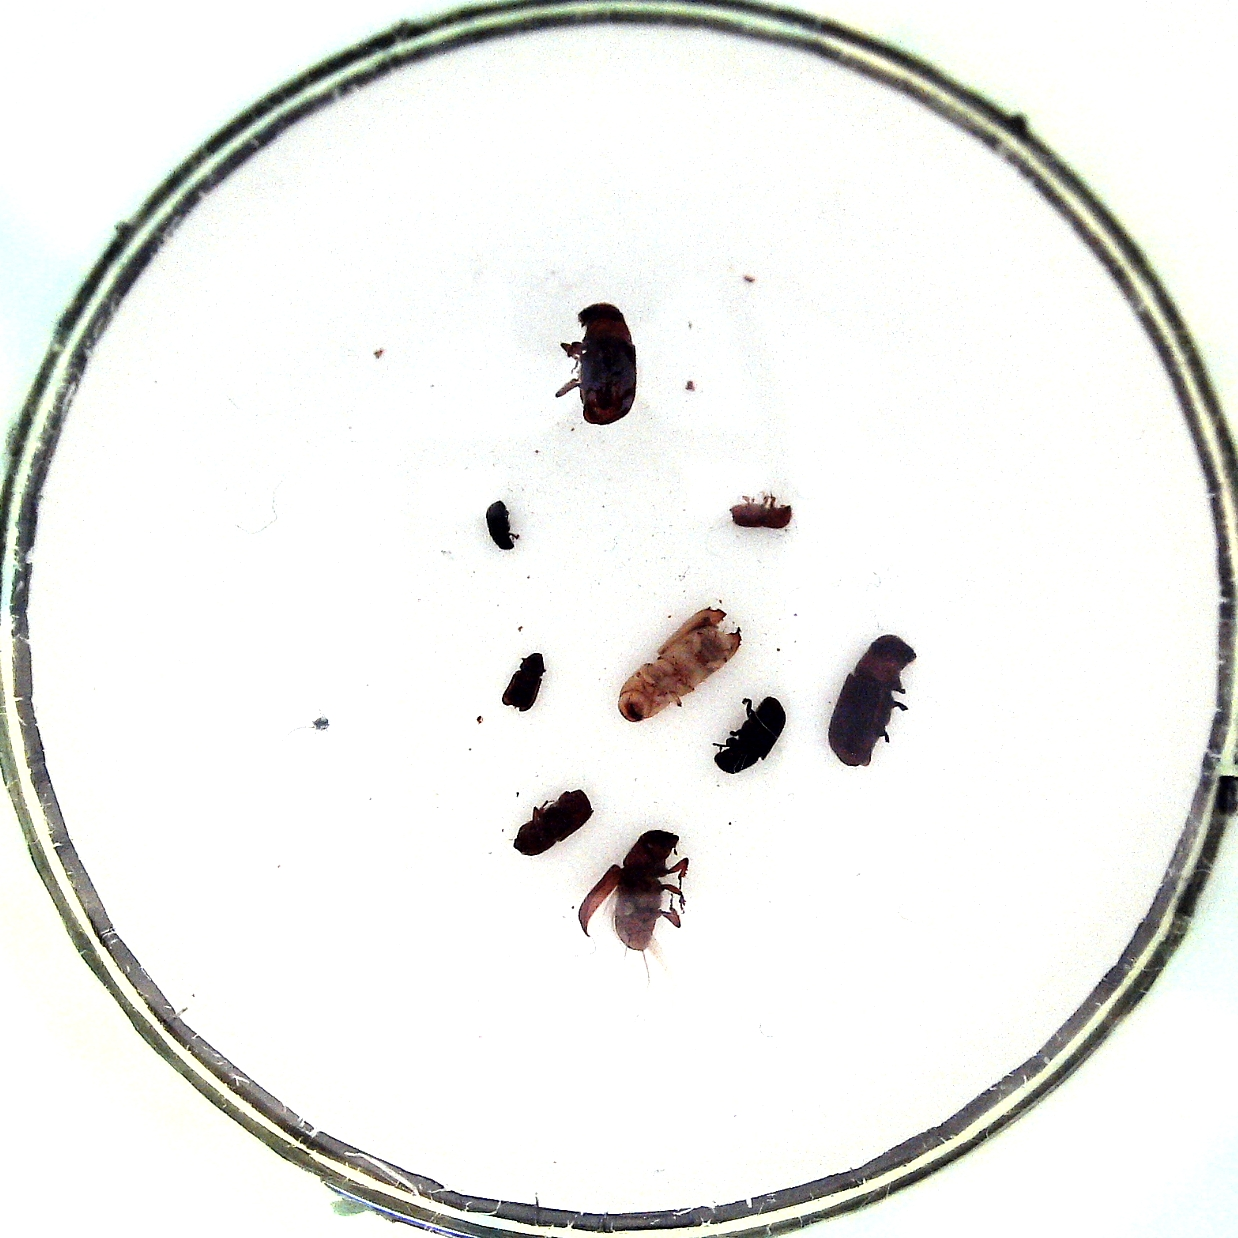Boerner: (618, 607, 741, 723)
Leconte: (828, 631, 916, 768), (614, 829, 680, 951), (578, 303, 635, 425)
acuminatus: (485, 500, 514, 550)
armandi: (713, 697, 786, 773)
coleoptera: (502, 653, 545, 712), (729, 503, 791, 527)
linnaeus: (514, 788, 594, 856)
